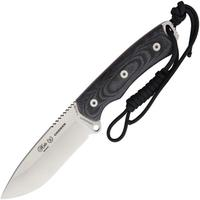knife: (1, 13, 180, 199)
